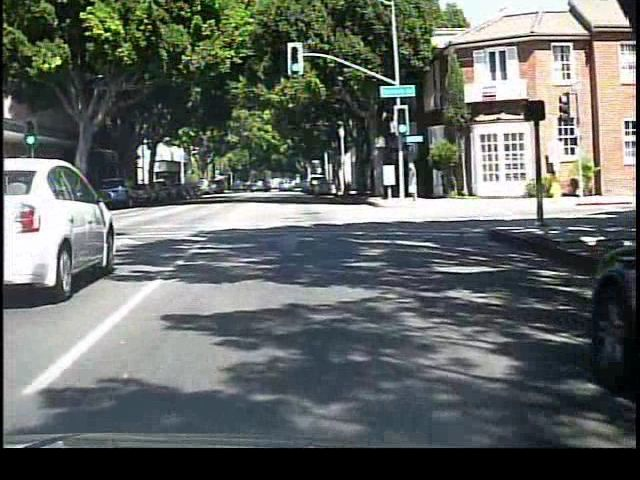person: (406, 157, 426, 209)
